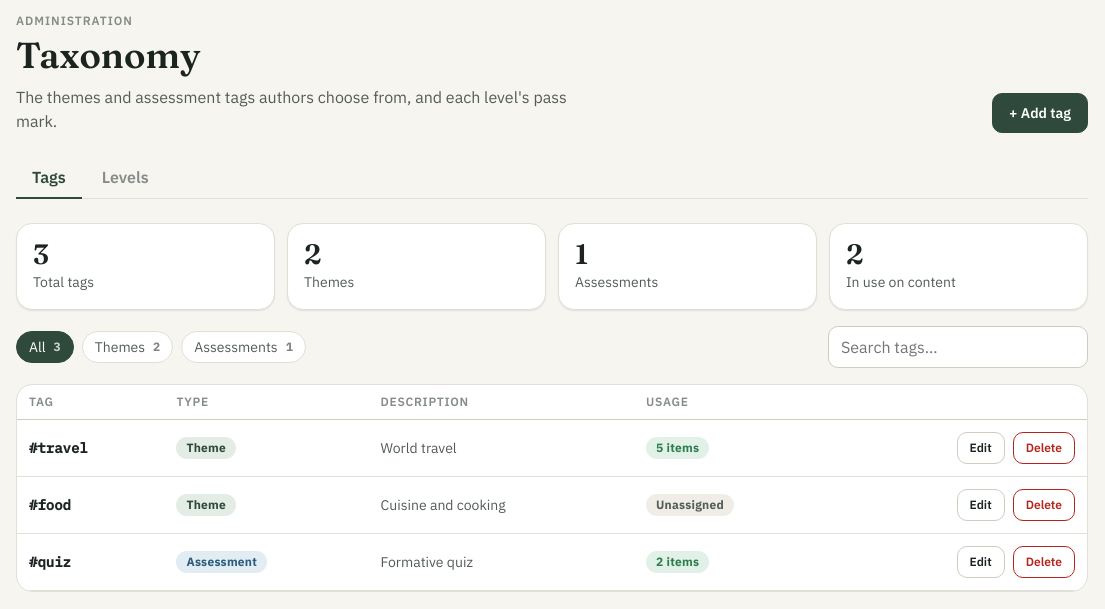
TaxonomyAdminScreen › switches between Tags and Levels tabs
This screenshot has width=1105, height=609.
Expected: the button with test id "btn-add-tag" is shown, x1=992 y1=93 x2=1088 y2=133
// Switch to Levels tab
Click the tab with test id "tab-levels" at (125,178), box x1=86 y1=157 x2=165 y2=199
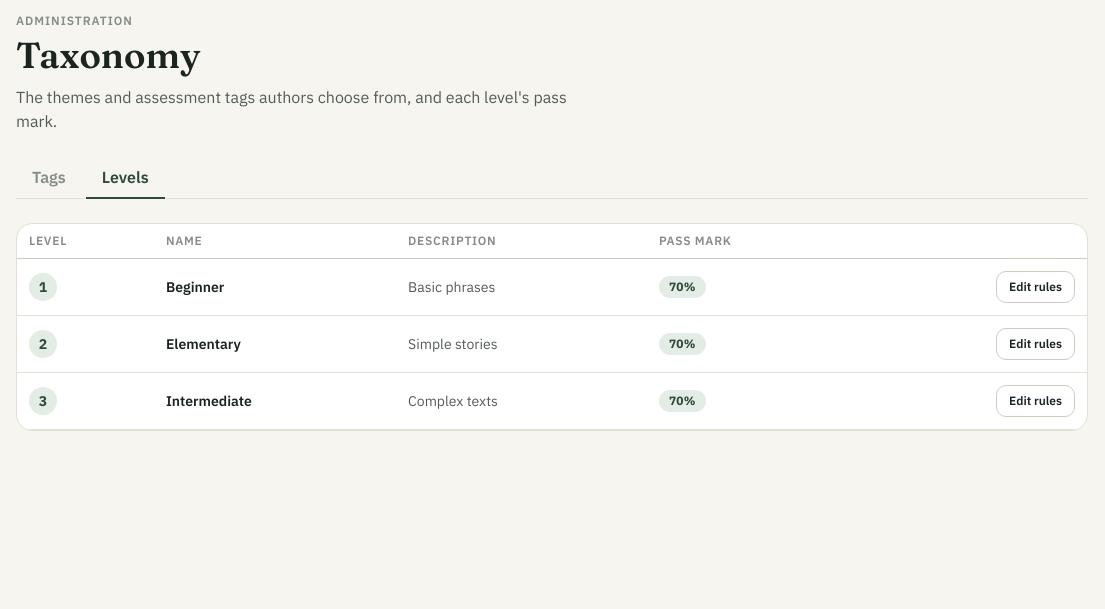
Expected: the table with test id "levels-table" is shown, x1=17 y1=224 x2=1087 y2=430
